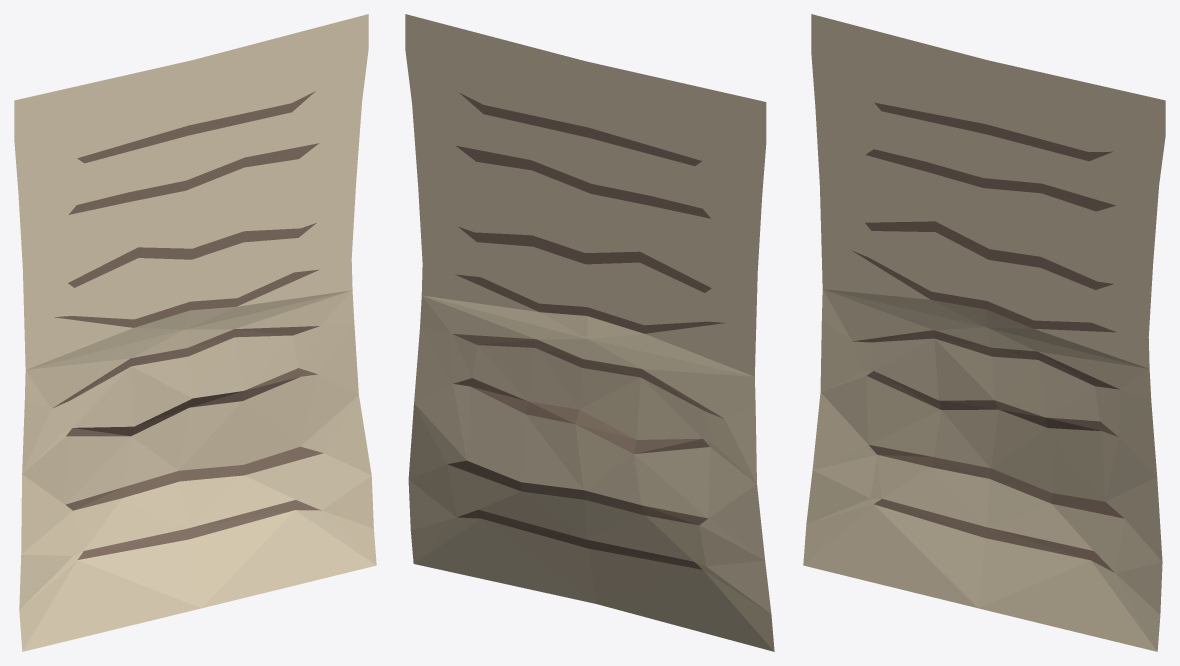
The model's file is SFHW_Paper_006.fbx.
The picture shows the model from 3 angles, left to right: view 1: azimuth 30°, elevation 25°; view 2: azimuth 150°, elevation 25°; view 3: azimuth 330°, elevation 25°; orthographic projection.
Visible parts, largest first — view 1: SFHW_Paper_006; view 2: SFHW_Paper_006; view 3: SFHW_Paper_006.
Part boxes in pixels (bbox=[...]): SFHW_Paper_006: bbox=[14, 14, 376, 651]; SFHW_Paper_006: bbox=[405, 14, 774, 651]; SFHW_Paper_006: bbox=[803, 14, 1165, 651].
Size of the model in its own units: 19.26 by 28.34 by 1.66.
